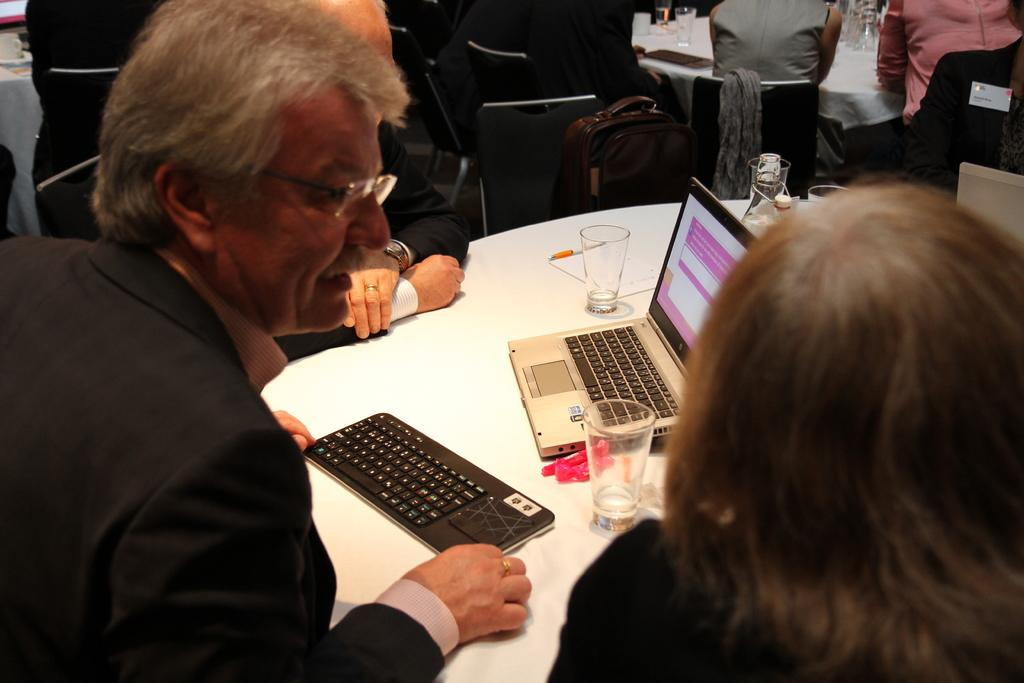Computer-keyboard: (301, 409, 556, 555), (560, 324, 682, 431), (645, 47, 711, 70)
